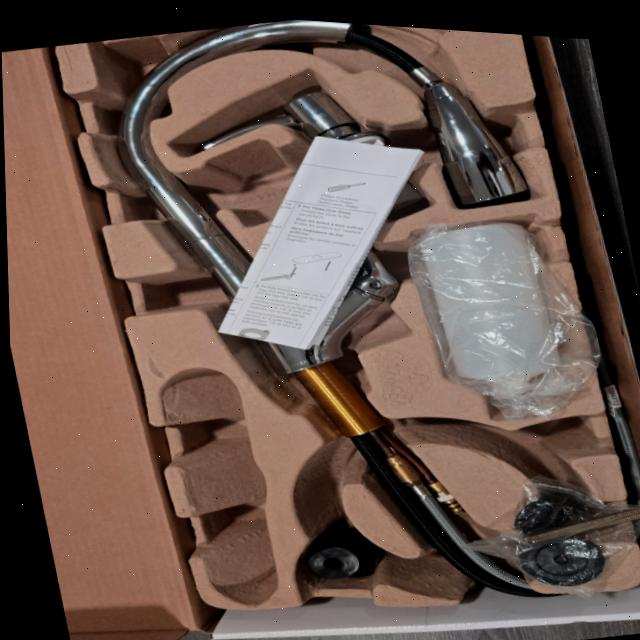1o: (113, 19, 530, 599)
2o: (200, 89, 419, 210)
3: (414, 224, 563, 414)
4m: (161, 366, 277, 605)
5: (302, 518, 385, 578)
6m: (431, 415, 598, 466)
7: (455, 473, 640, 601)
8: (213, 135, 426, 351)
